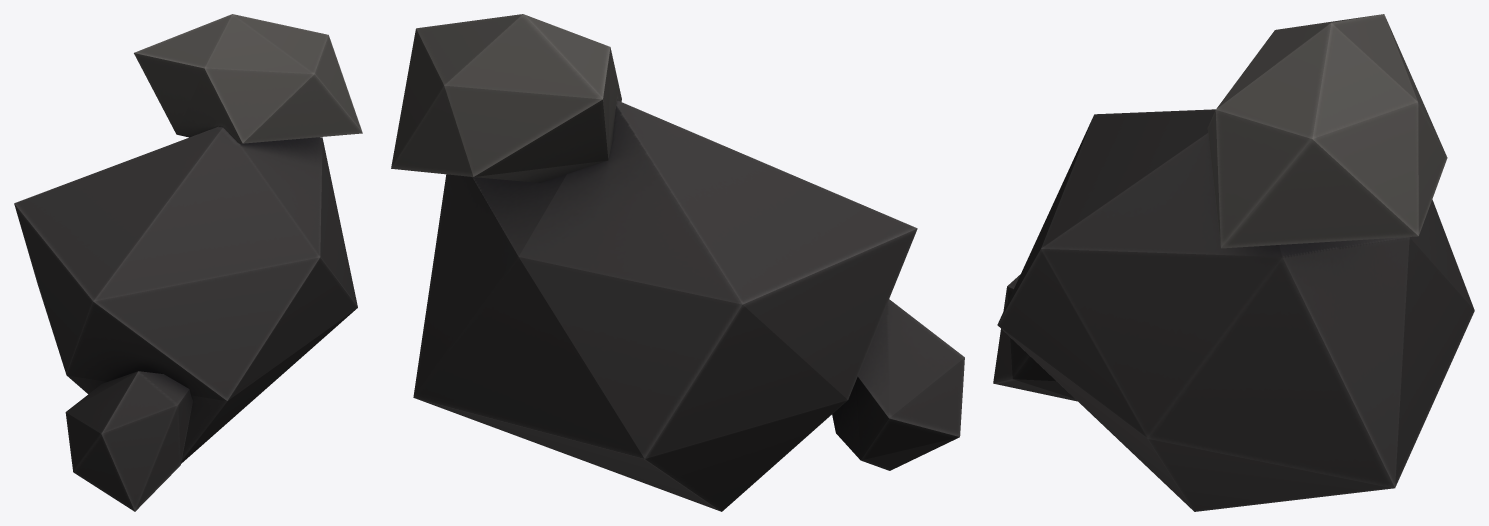
The model's file is rock_basalt.glb.
3 views of the same model, side by side, from view 1: azimuth 30°, elevation 25°; view 2: azimuth 150°, elevation 25°; view 3: azimuth 270°, elevation 25° (orthographic). The views are drawn at different scales.
Parts seen in each view (by area): view 1: rock_basalt; view 2: rock_basalt; view 3: rock_basalt.
Boxes of the visible parts, x1,y1,x2,y2 form: rock_basalt: [14, 14, 362, 511]; rock_basalt: [391, 14, 964, 511]; rock_basalt: [993, 14, 1474, 511].
Size of the model in its own units: 0.7691 by 0.8522 by 0.6612.
Materials: 1 (1 with a texture image).
